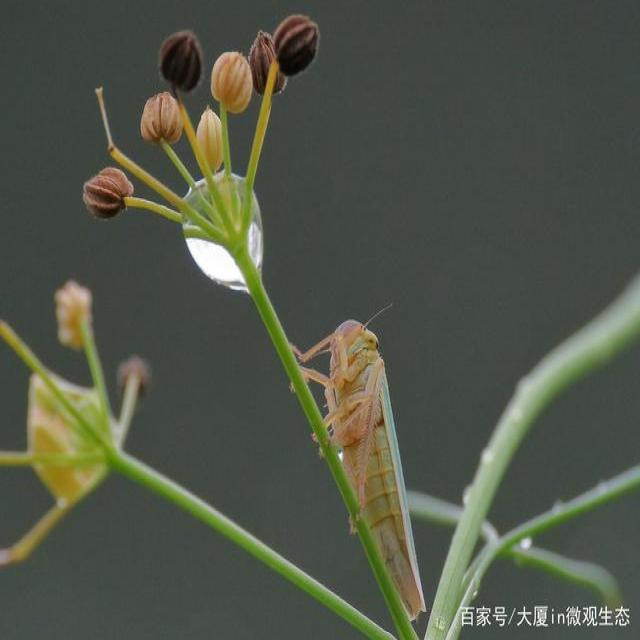Yechan: (301, 296, 432, 620)
